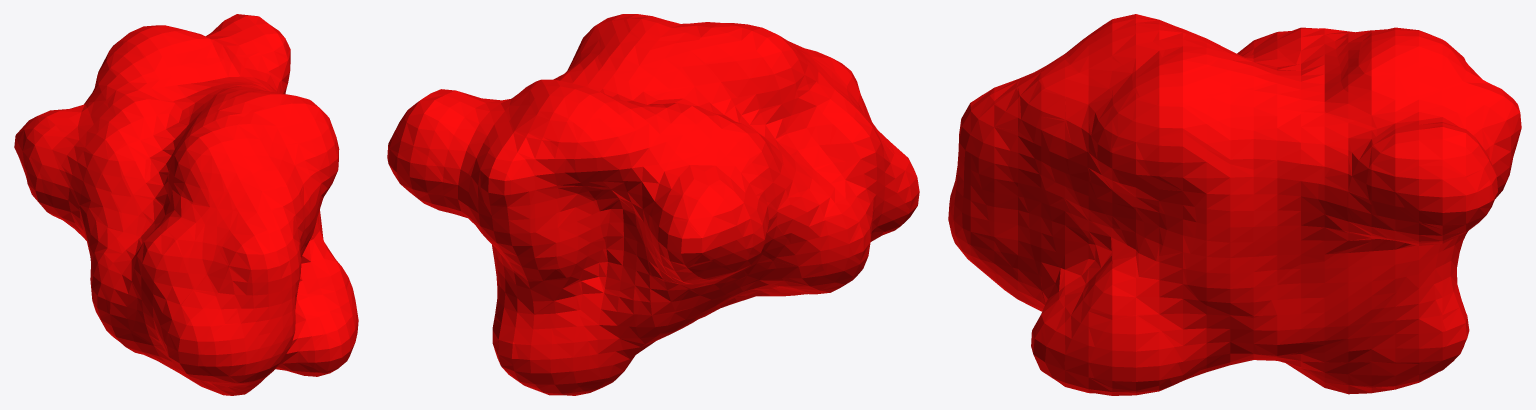
The model's file is focA_coarse.dae.
The picture shows the model from 3 angles, left to right: view 1: azimuth 30°, elevation 25°; view 2: azimuth 150°, elevation 25°; view 3: azimuth 270°, elevation 25°; orthographic projection. The views are drawn at different scales.
Parts seen in each view (by area): view 1: focA; view 2: focA; view 3: focA.
Part boxes in pixels (x1,y1,x2,y2): focA: (14, 14, 358, 395); focA: (387, 14, 919, 395); focA: (948, 14, 1521, 395).
Bounding box in the file's own units: 47.14 × 41.64 × 62.32.
